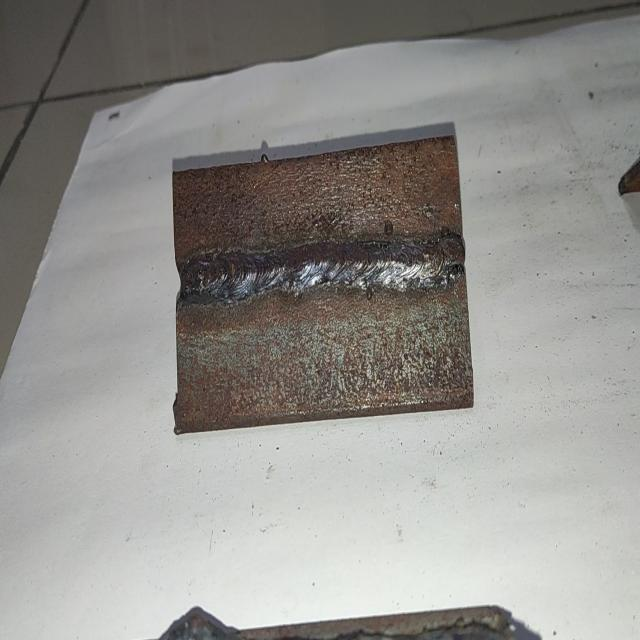Welding Line: (180, 232, 466, 302)
Workpiece: (170, 130, 477, 434)
